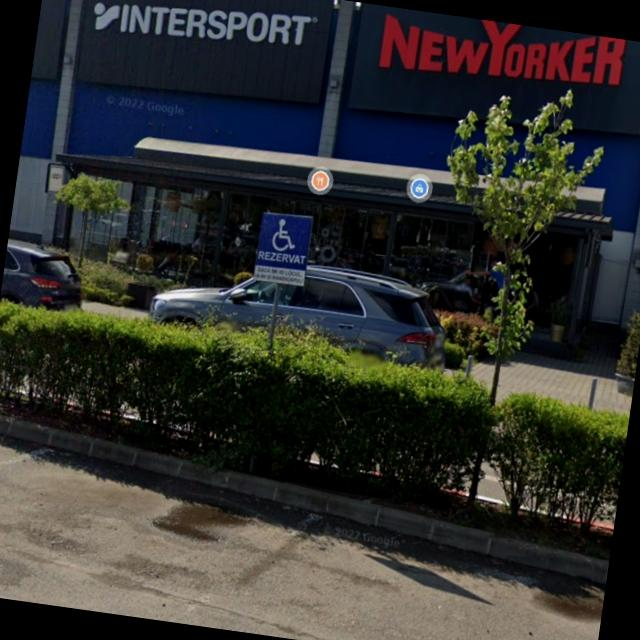symbol_of_access: (260, 212, 304, 256)
